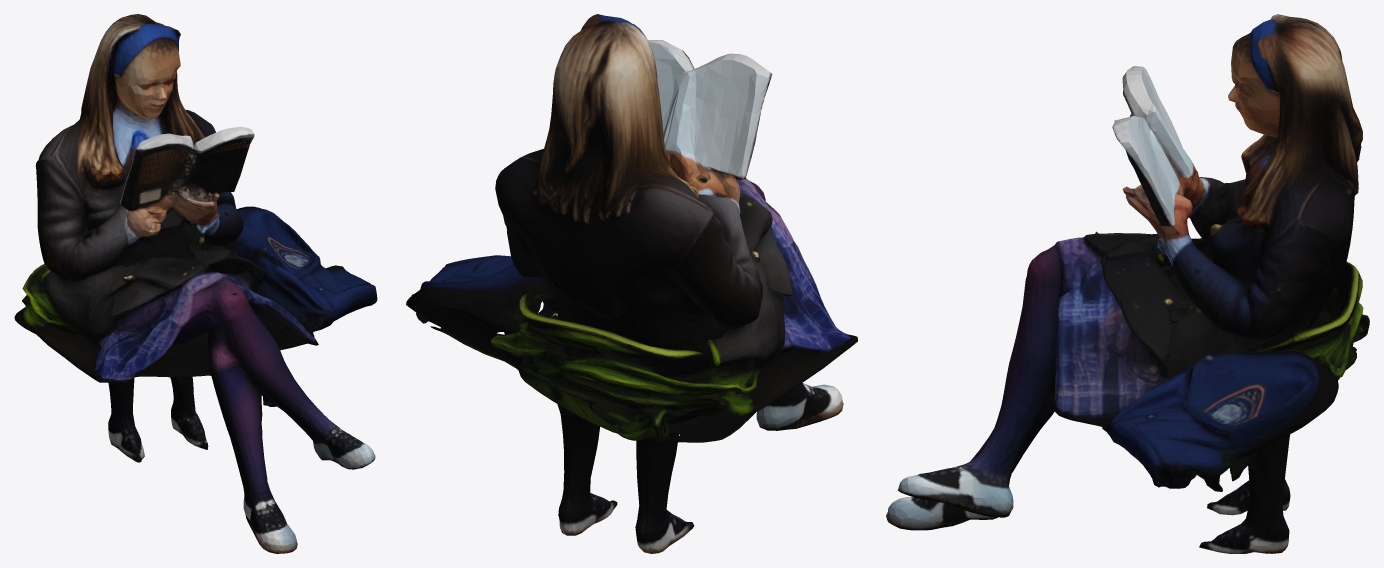
The model's file is orta düzey 3d model hatalı bir az.glb.
The picture shows the model from 3 angles, left to right: view 1: azimuth 30°, elevation 25°; view 2: azimuth 150°, elevation 25°; view 3: azimuth 270°, elevation 25°; orthographic projection. The views are drawn at different scales.
Parts seen in each view (by area): view 1: world; view 2: world; view 3: world.
Part boxes in pixels (x1,y1,x2,y2): world: (14, 14, 377, 553); world: (406, 14, 857, 553); world: (886, 14, 1369, 553).
Size of the model in its own units: 0.7636 by 0.9907 by 0.8565.
1 material, 1 textured.
